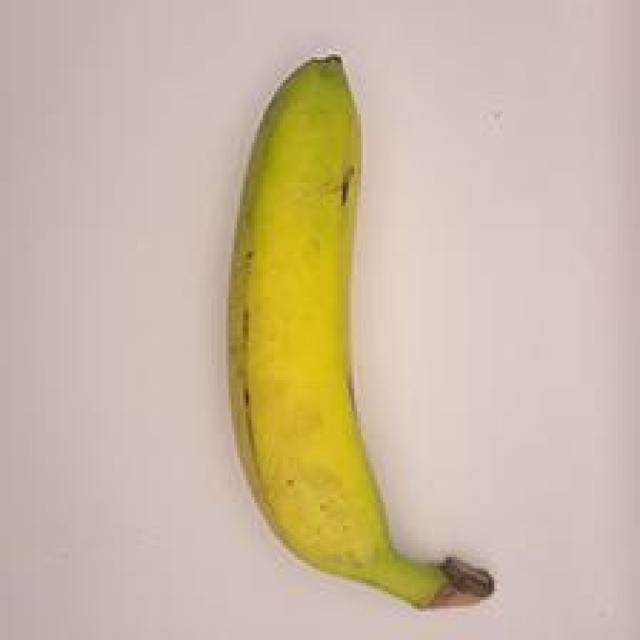unripe: (166, 37, 526, 640)
